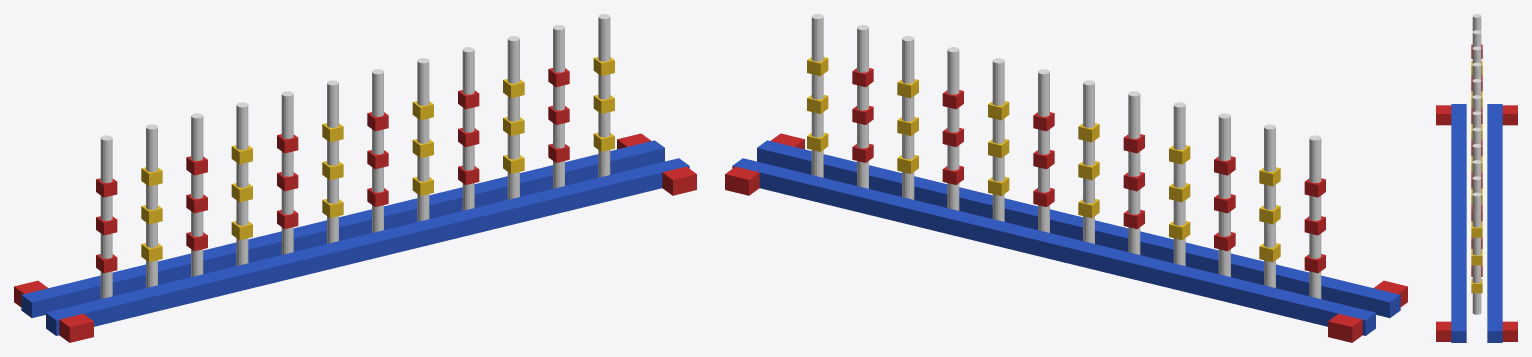
Rendered from dog_weave_poles.obj.
The picture shows the model from 3 angles, left to right: view 1: azimuth 30°, elevation 25°; view 2: azimuth 150°, elevation 25°; view 3: azimuth 270°, elevation 25°; orthographic projection. The views are drawn at different scales.
Parts seen in each view (by area): view 1: right_base_rail, left_base_rail, pole_9, pole_12, pole_1, pole_5, pole_8, pole_10, pole_4, pole_3, pole_7, pole_6 (+4 smaller); view 2: left_base_rail, right_base_rail, pole_9, pole_12, pole_1, pole_5, pole_8, pole_10, pole_4, pole_3, pole_7, pole_6 (+4 smaller); view 3: left_base_rail, right_base_rail, pole_12, end_cap_front_-2.0, end_cap_back_-2.0, end_cap_front_2.0, end_cap_back_2.0, pole_2, pole_6, pole_1, pole_4, pole_5 (+9 smaller).
Part boxes in pixels (<box>): right_base_rail: <box>46,158,689,335</box>; left_base_rail: <box>21,140,664,317</box>; pole_9: <box>462,47,474,210</box>; pole_12: <box>598,14,610,177</box>; pole_1: <box>100,135,112,298</box>; pole_5: <box>281,91,293,254</box>; pole_8: <box>417,58,429,221</box>; pole_10: <box>507,36,519,199</box>; pole_4: <box>236,102,248,265</box>; pole_3: <box>191,113,203,276</box>; pole_7: <box>372,69,383,232</box>; pole_6: <box>327,80,338,243</box>; left_base_rail: <box>732,158,1375,335</box>; right_base_rail: <box>757,140,1400,317</box>; pole_9: <box>947,47,959,210</box>; pole_12: <box>811,14,823,177</box>; pole_1: <box>1309,135,1321,298</box>; pole_5: <box>1128,91,1140,254</box>; pole_8: <box>992,58,1004,221</box>; pole_10: <box>902,36,914,199</box>; pole_4: <box>1173,102,1185,265</box>; pole_3: <box>1218,113,1230,276</box>; pole_7: <box>1038,69,1049,232</box>; pole_6: <box>1083,80,1094,243</box>; left_base_rail: <box>1487,104,1502,342</box>; right_base_rail: <box>1451,104,1466,342</box>; pole_12: <box>1472,192,1481,314</box>; end_cap_front_-2.0: <box>1502,105,1517,125</box>; end_cap_back_-2.0: <box>1436,105,1451,125</box>; end_cap_front_2.0: <box>1502,321,1517,341</box>; end_cap_back_2.0: <box>1436,321,1451,341</box>; pole_2: <box>1472,30,1481,47</box>; pole_6: <box>1472,95,1481,112</box>; pole_1: <box>1472,14,1481,30</box>; pole_4: <box>1472,62,1481,79</box>; pole_5: <box>1472,79,1481,95</box>.
Size of the model in its own units: 4.2 by 1.07 by 0.64.
